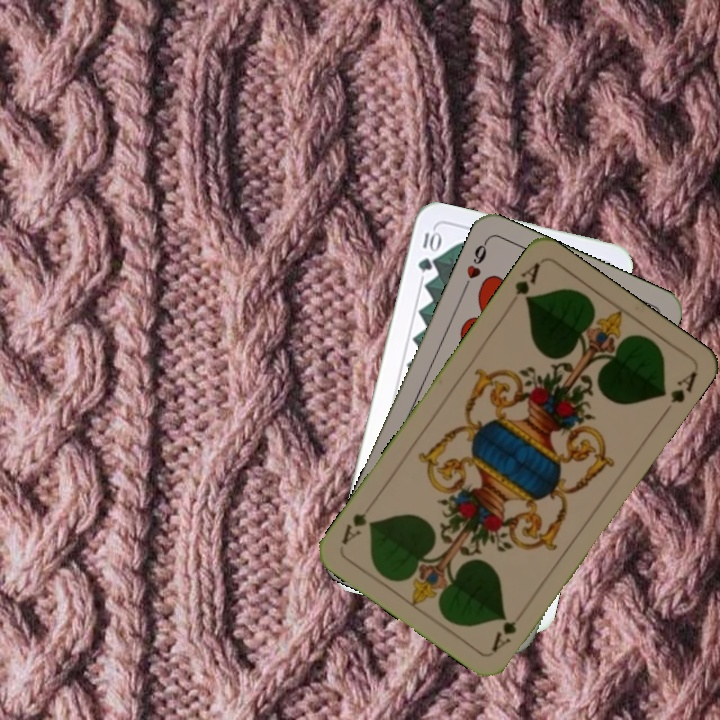G10: (414, 225, 442, 274)
GA: (487, 605, 529, 655), (510, 258, 543, 307)
H9: (459, 236, 490, 292)
